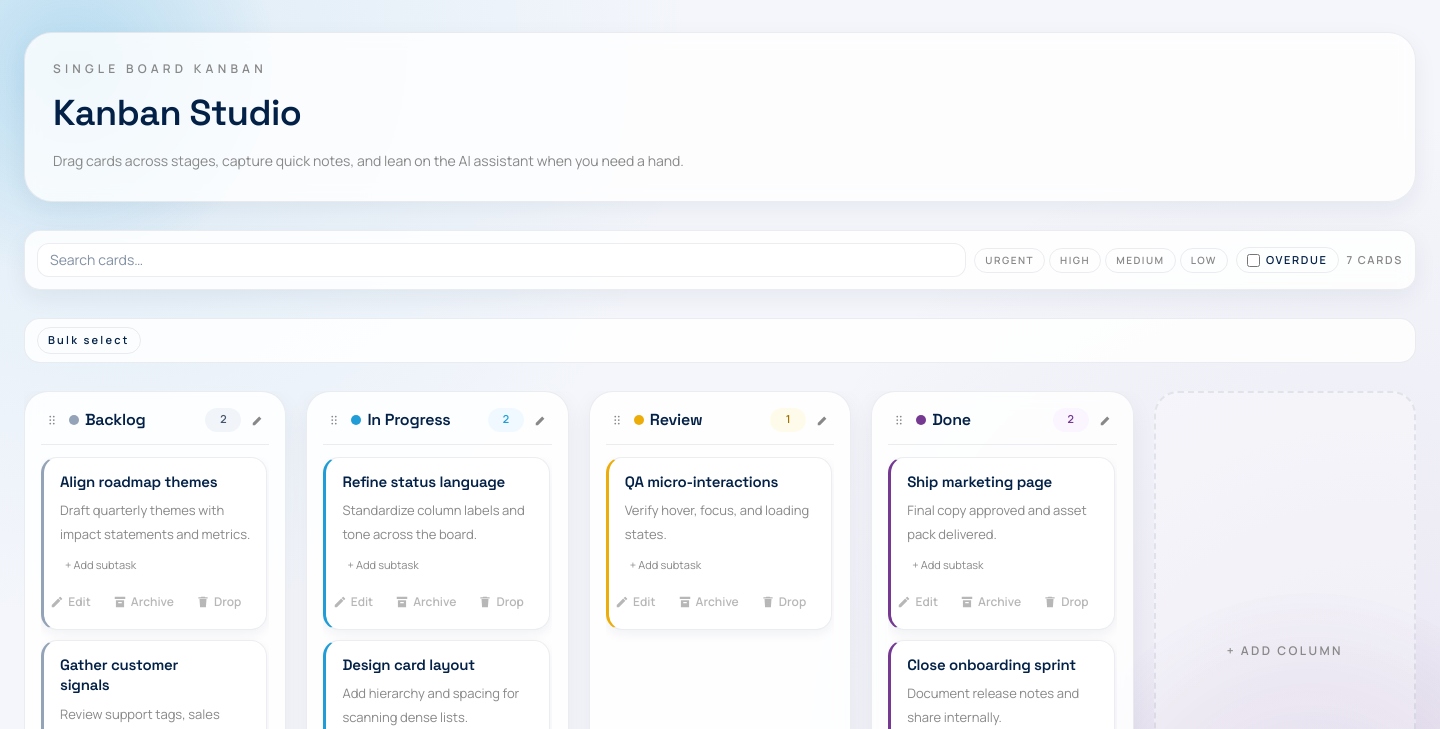
Test case: KanbanBoard › enters bulk-select mode and archives selected cards
Click the button with test id "bulk-select-toggle".
click(89, 340)  # box [37,327,140,354]
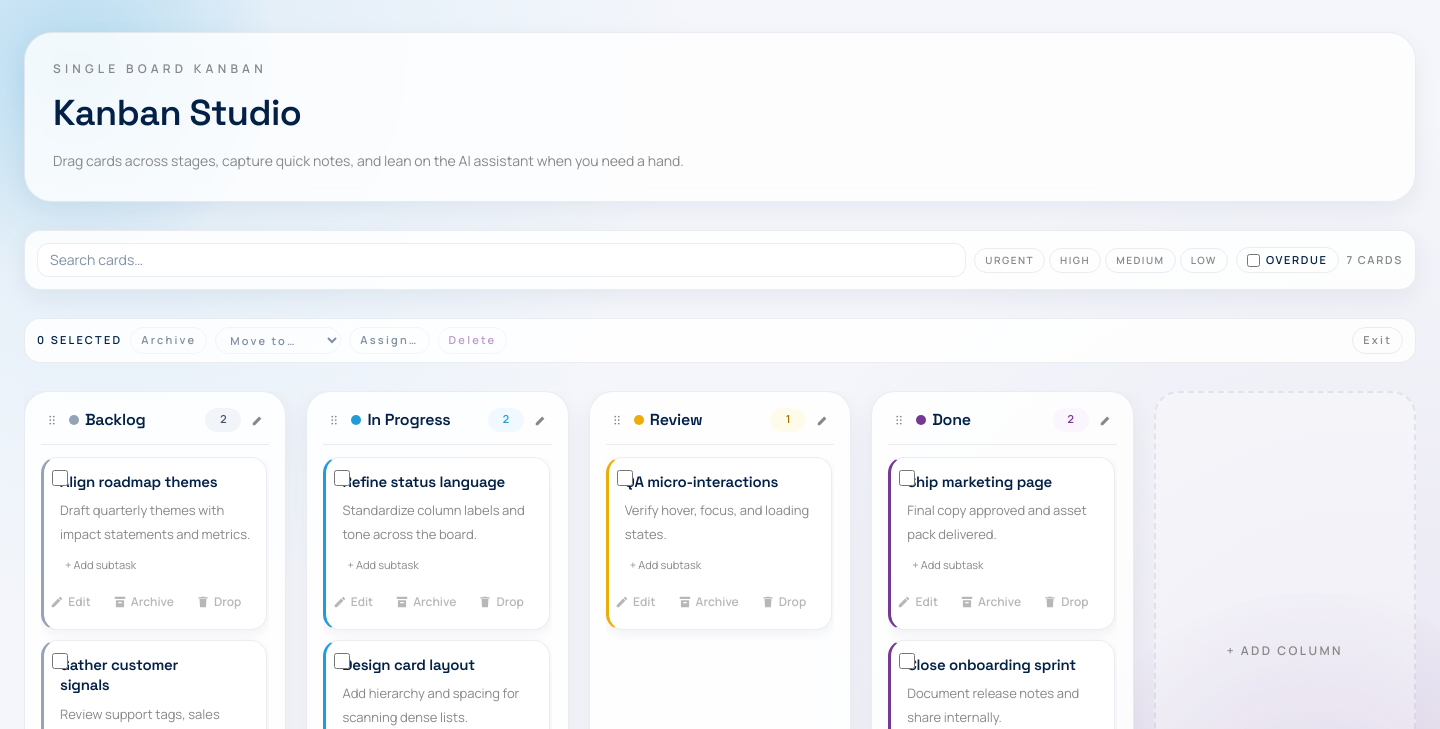
Click the checkbox with test id "select-card-card-1".
click(60, 478)  # box [52,470,68,486]
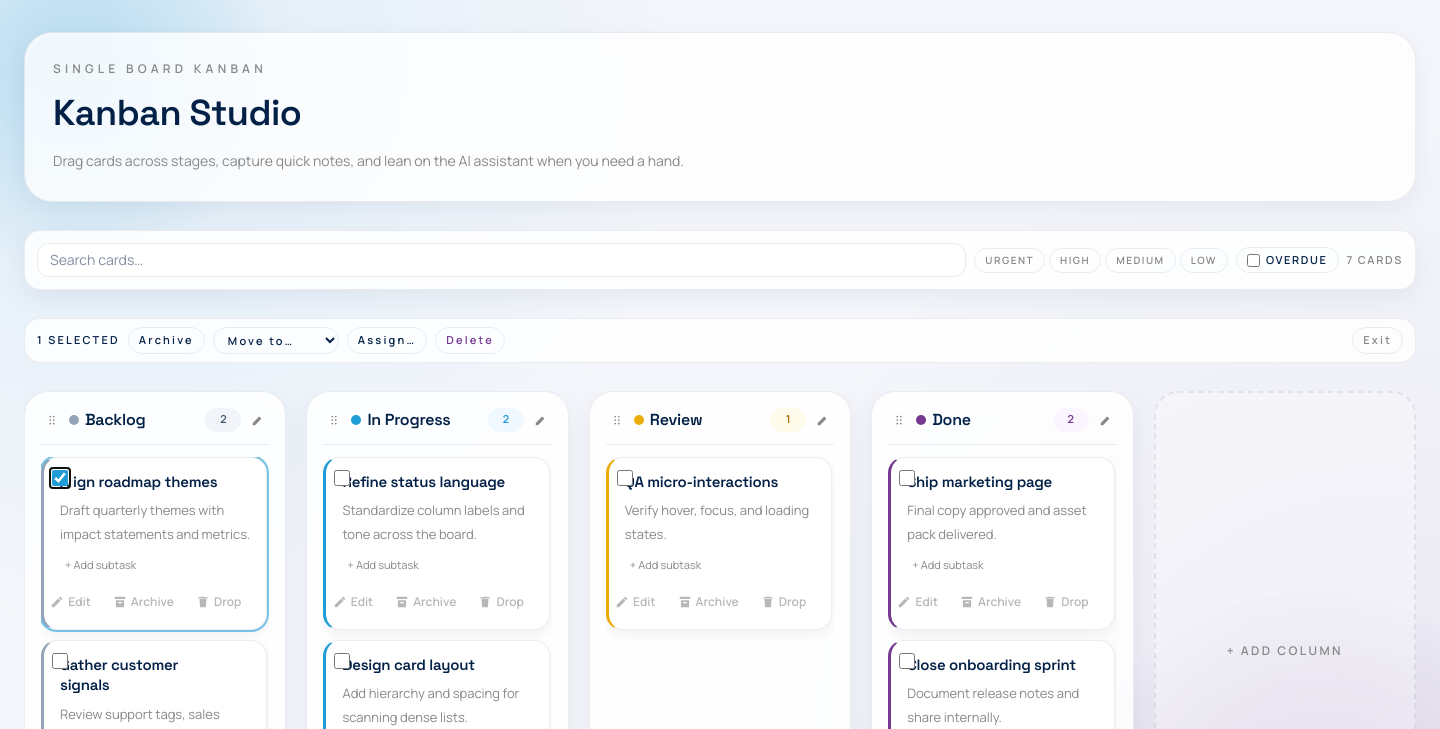
Click the checkbox with test id "select-card-card-2".
click(60, 661)  # box [52,653,68,669]
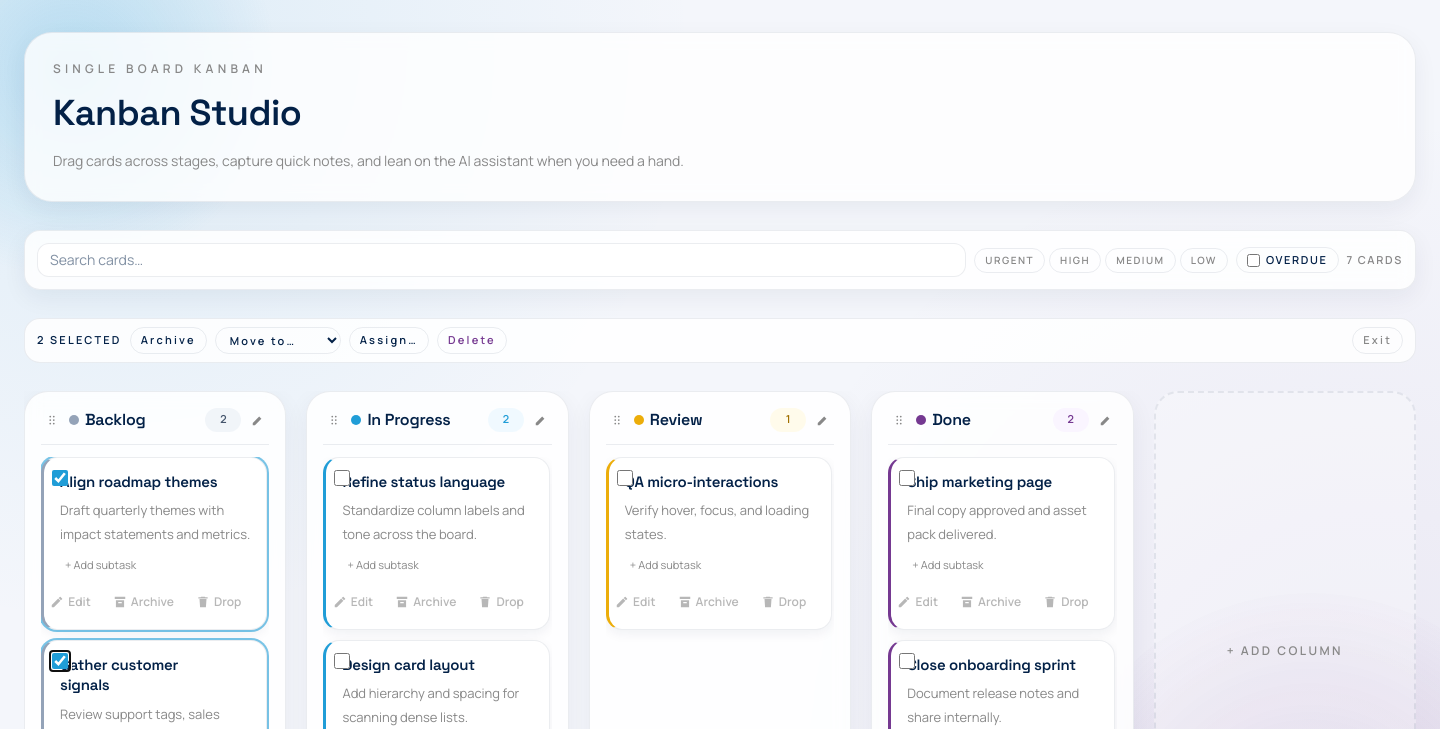
Click the button with test id "bulk-archive".
click(168, 341)  # box [130,327,207,354]
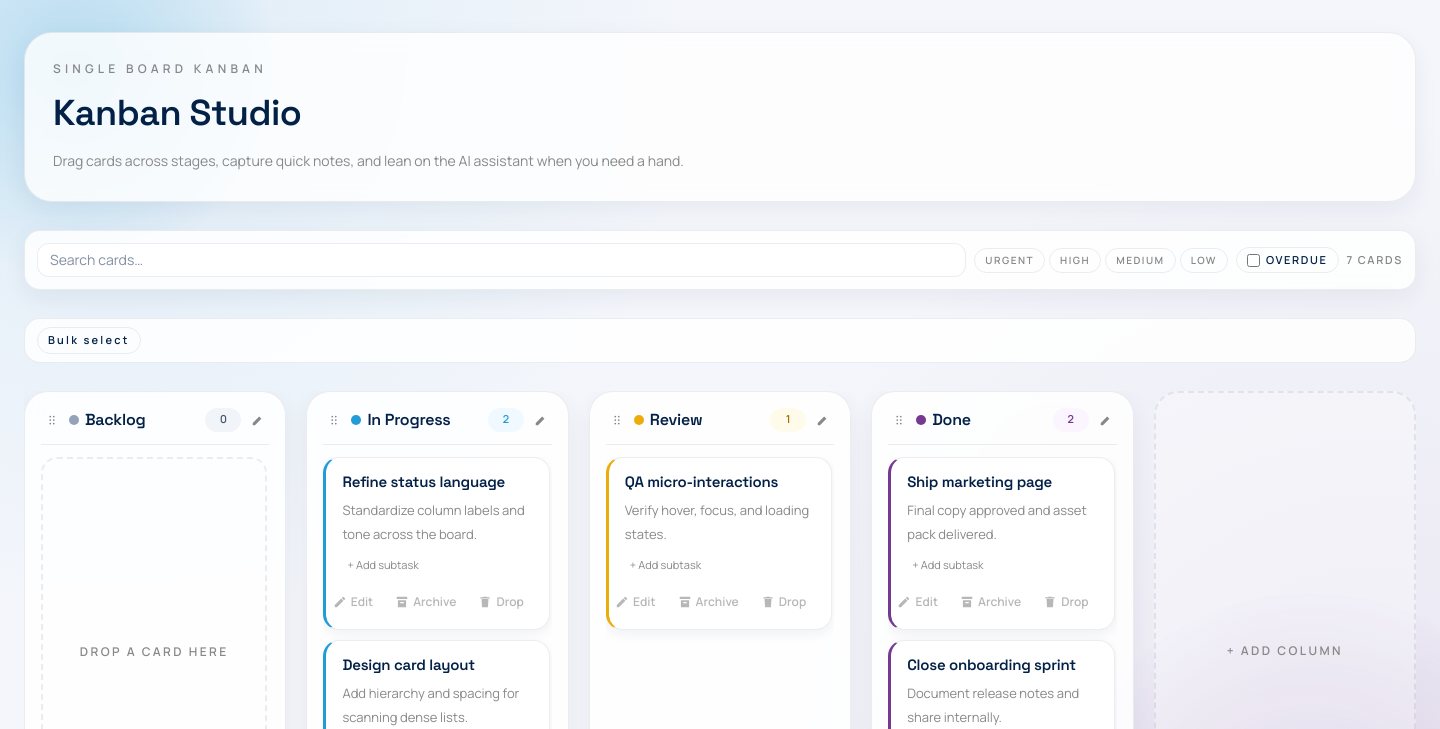
Check: the element with test id "card-card-1" is gone
